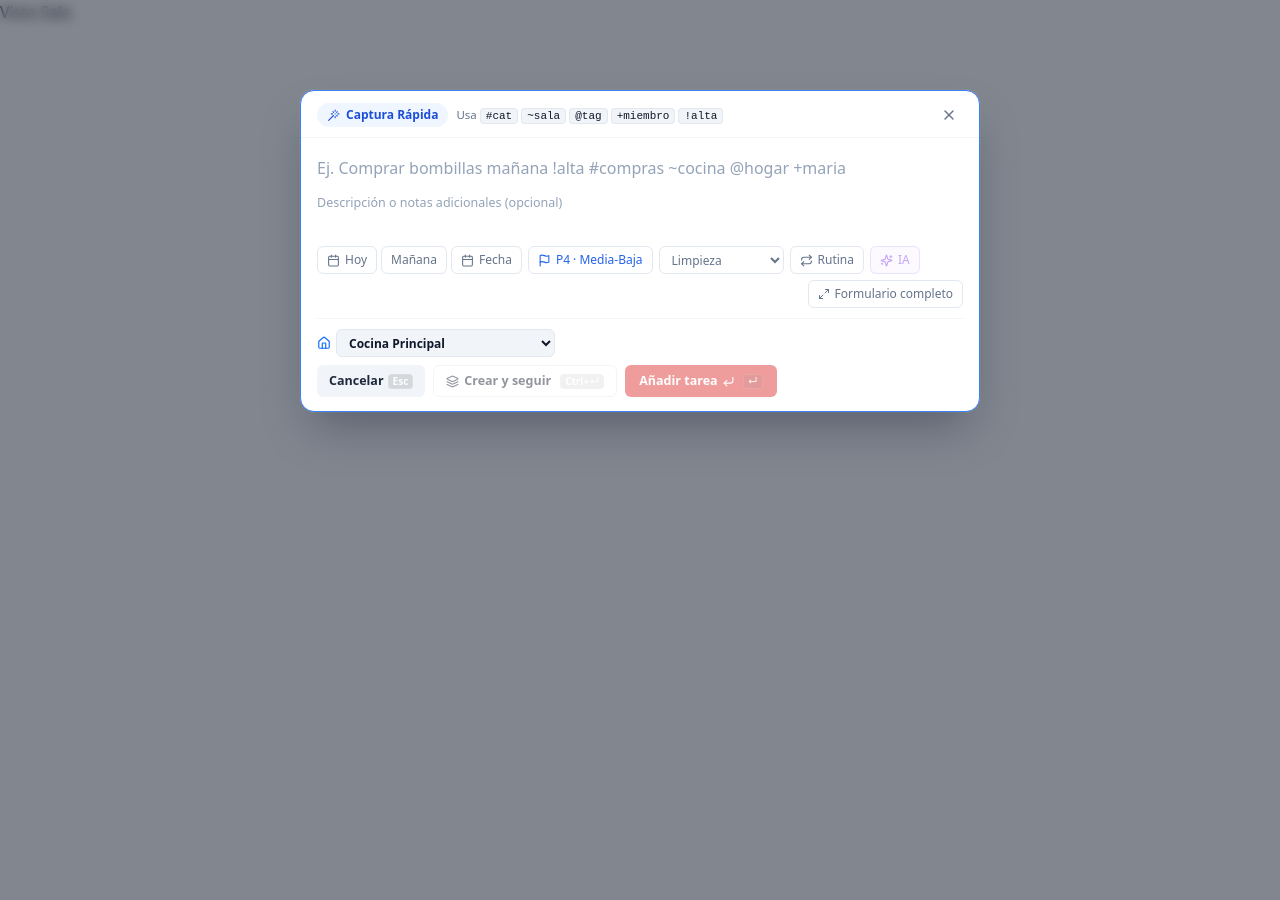
Scenario: GlobalQuickAddModal Component (Todoist Desktop quick_add) › escala al formulario completo ('Formulario completo' / sendOpenPageFromQuickAdd) transfiriendo el estado prefill completo a /tasks/create (CA-06)
Replace the text in the field with test id "global-quick-add-title-input" with "Organizar despensa p1 @hogar +maria ~salon" at (640, 168), box top-left (317, 152), bottom-right (963, 184)
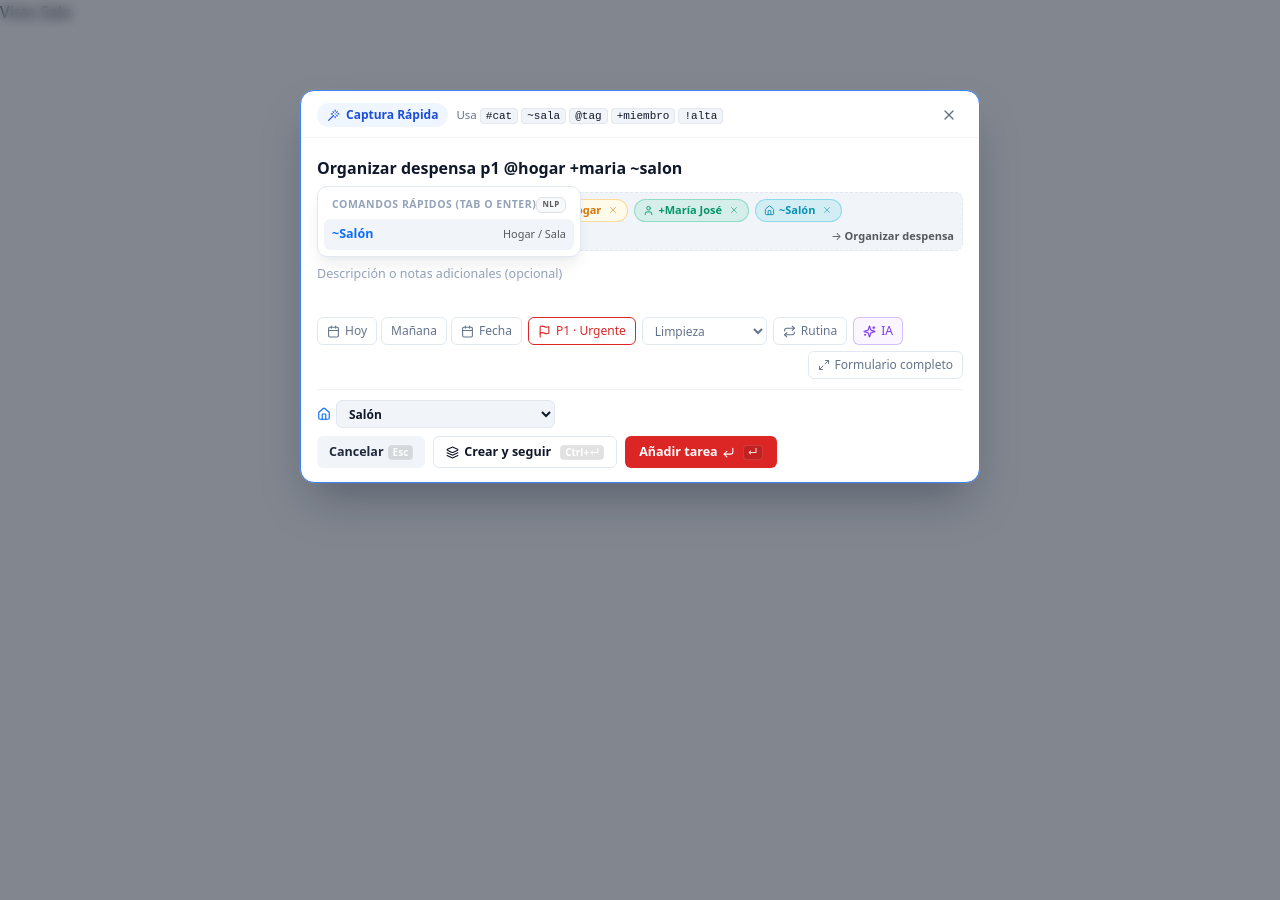
Type "Clasificar conservas por caducidad" into the text box with test id "global-quick-add-desc-input".
click(640, 285); type("Clasificar conservas por caducidad")  # box top-left (317, 263), bottom-right (963, 307)
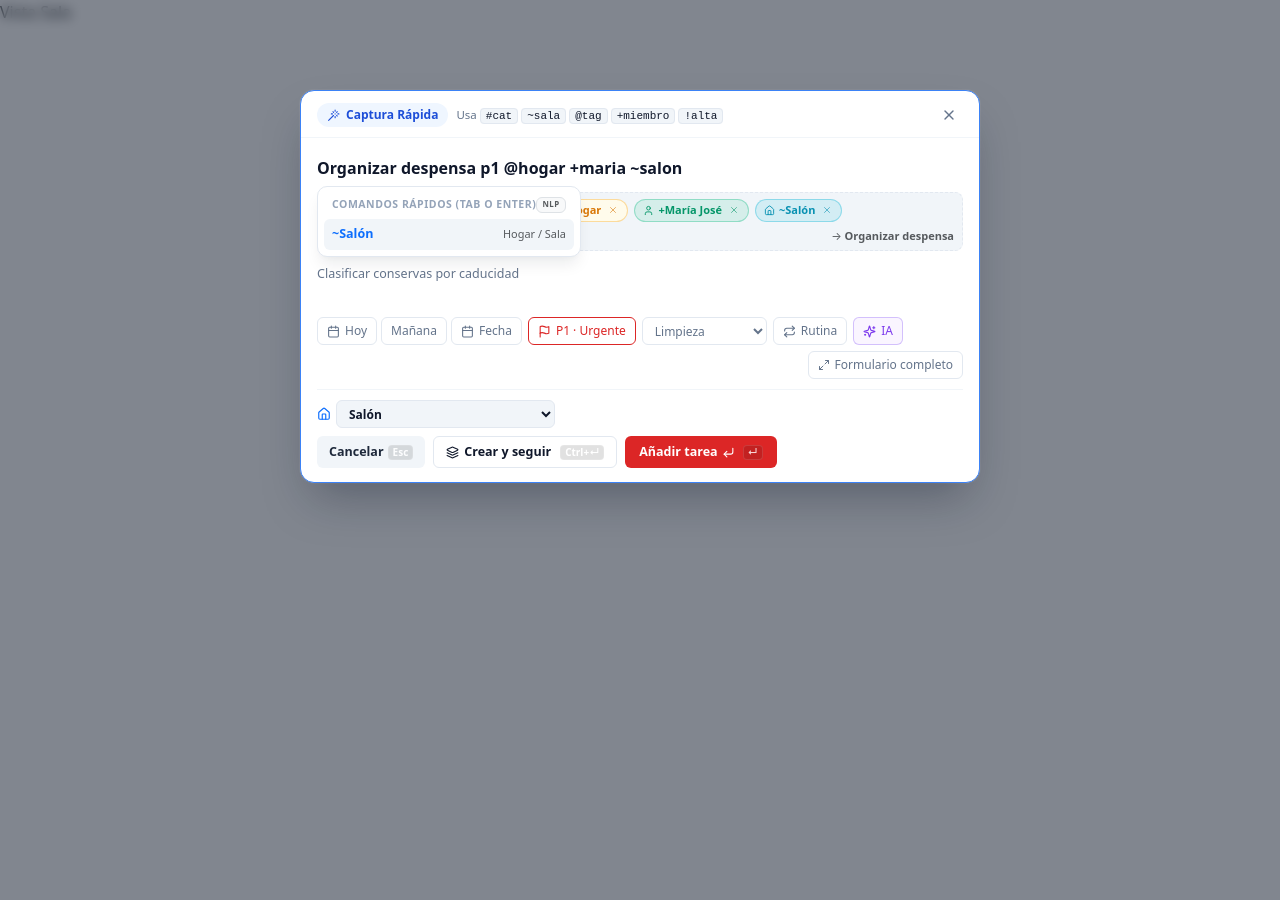
Click the button with test id "global-quick-add-full-form-btn".
click(885, 365)  # box top-left (808, 351), bottom-right (963, 379)
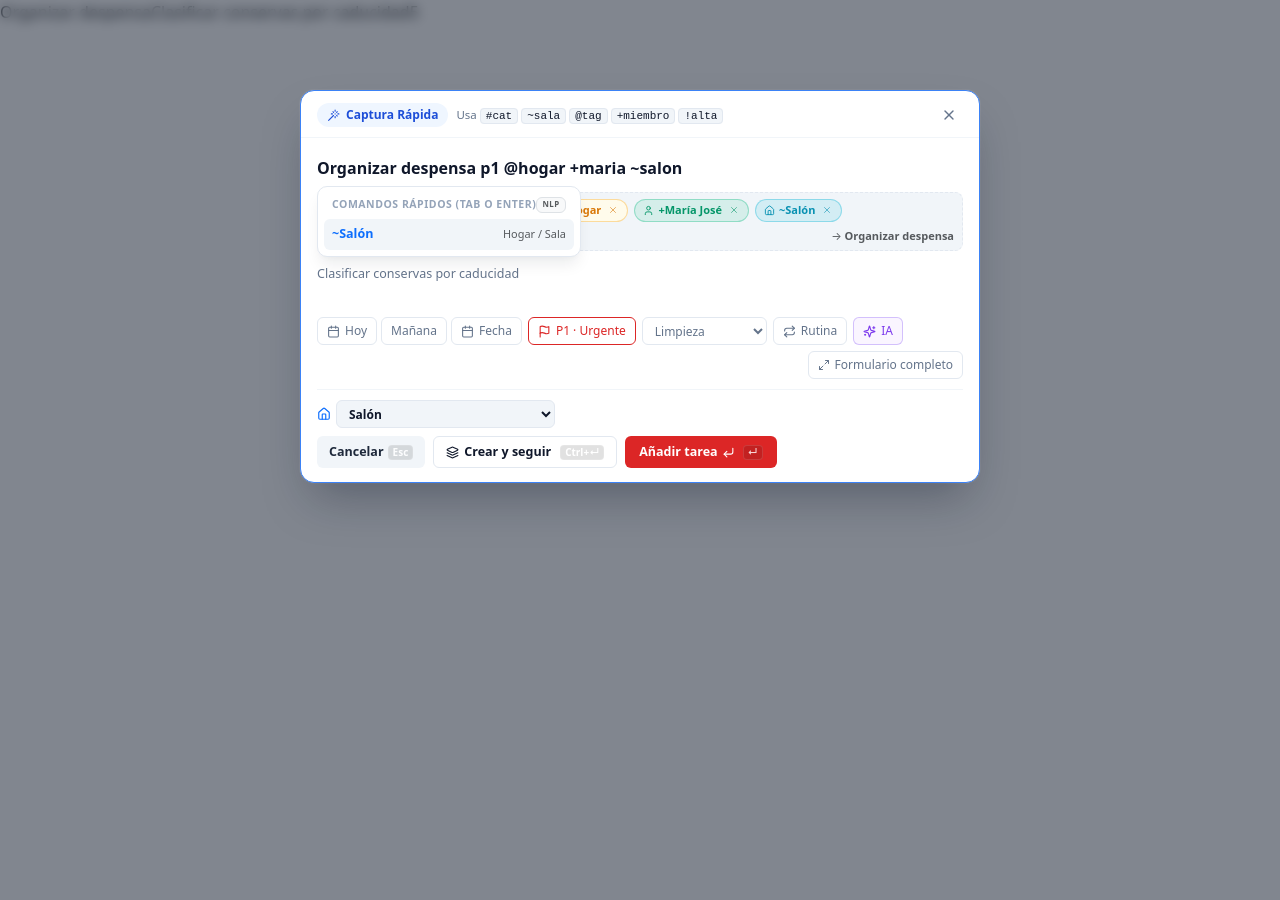
Expected: the element with test id "create-task-route-spy" is shown, top-left (0, 1), bottom-right (419, 23)
Expected: the text with test id "prefill-title" reads "Organizar despensa", top-left (0, 1), bottom-right (151, 23)
Expected: the text with test id "prefill-desc" reads "Clasificar conservas por caducidad", top-left (151, 1), bottom-right (410, 23)
